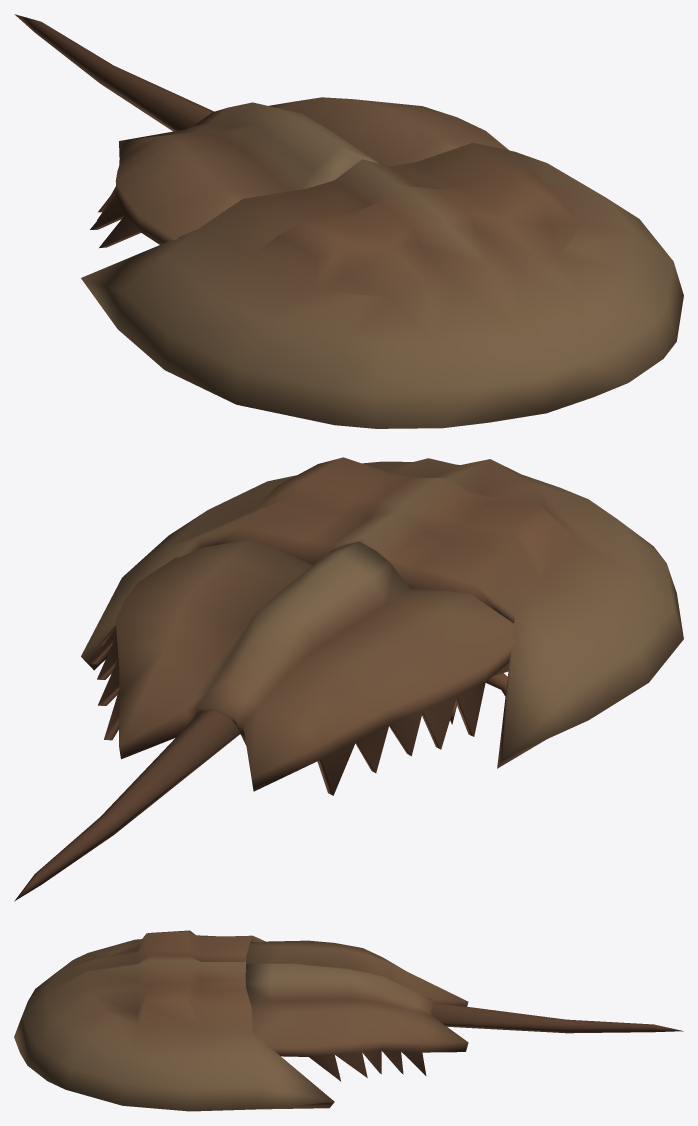
File: underwater-crustaceans-horseshoe-crab_v1.glb
3 views of the same model, one above another, from view 1: azimuth 30°, elevation 25°; view 2: azimuth 150°, elevation 25°; view 3: azimuth 270°, elevation 25° (orthographic). The views are drawn at different scales.
Parts seen in each view (by area): view 1: Horseshoe Crab; view 2: Horseshoe Crab; view 3: Horseshoe Crab.
Part boxes in pixels (x1,y1,x2,y2): Horseshoe Crab: (14,14,683,428); Horseshoe Crab: (14,457,683,901); Horseshoe Crab: (14,930,683,1111).
Bounding box in the file's own units: 0.2625 × 0.0778 × 0.5.
